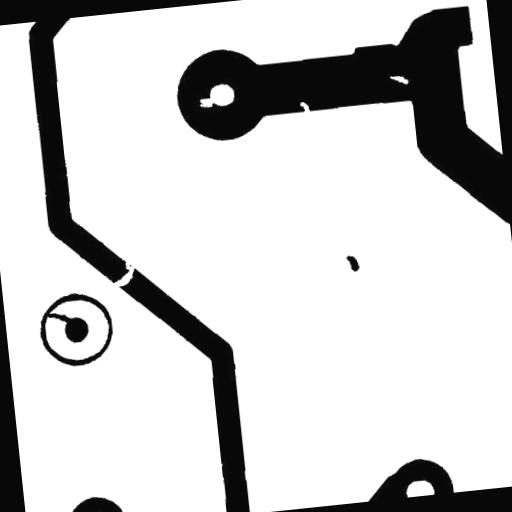copper: (338, 246, 368, 280)
mousebite: (190, 89, 224, 116), (292, 93, 318, 122)
open: (103, 252, 144, 295)
pin-hole: (382, 66, 416, 94)
short: (39, 303, 82, 334)
